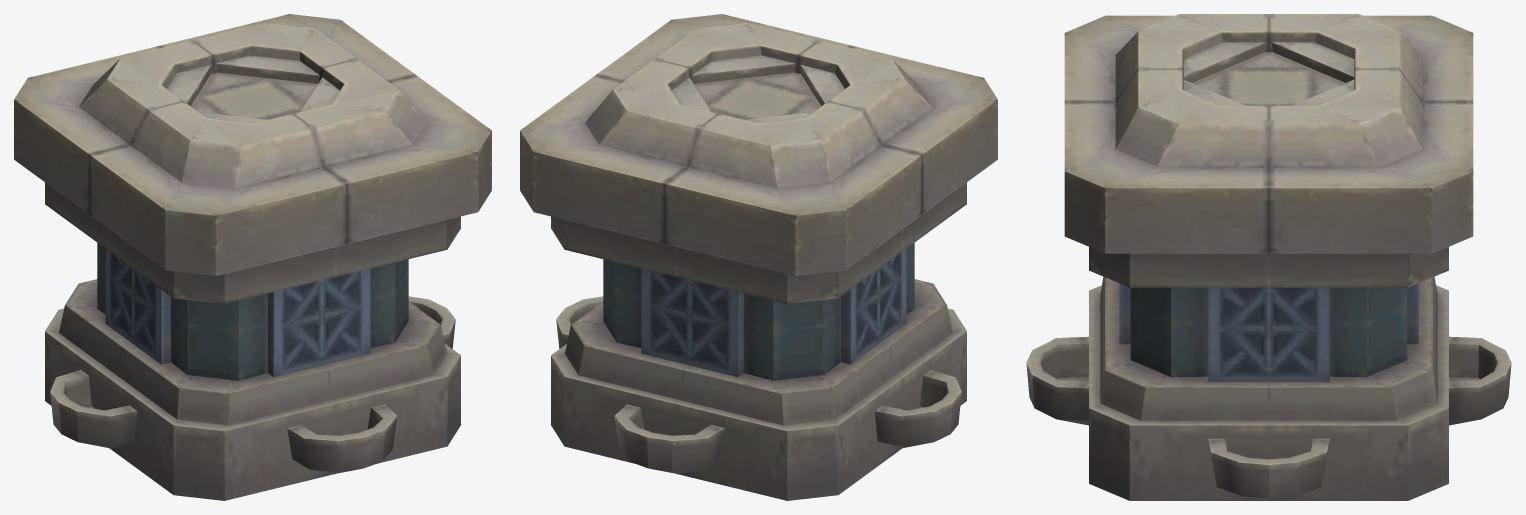
File: S_Build_City112.FBX
3 renders of one model, left to right at view 1: azimuth 30°, elevation 25°; view 2: azimuth 150°, elevation 25°; view 3: azimuth 270°, elevation 25°, orthographic. The views are drawn at different scales.
Parts seen in each view (by area): view 1: S_Build_City112; view 2: S_Build_City112; view 3: S_Build_City112.
Part boxes in pixels (<box>): S_Build_City112: <box>14,14,491,500</box>; S_Build_City112: <box>520,14,997,500</box>; S_Build_City112: <box>1026,14,1511,500</box>.
Size of the model in its own units: 278 by 226 by 278.
